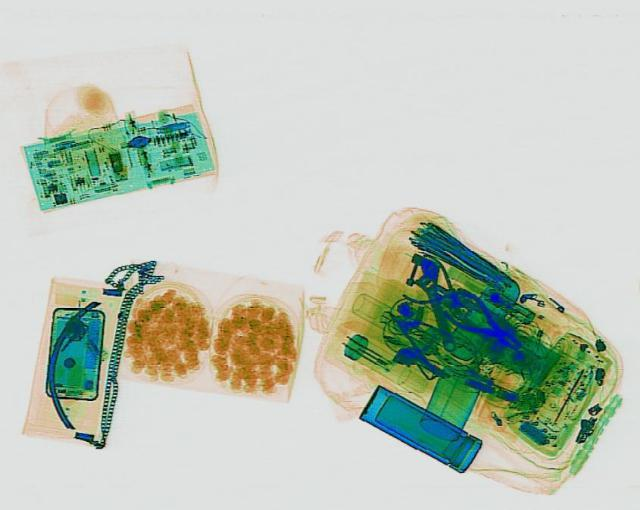Pliers: (432, 285, 534, 358), (387, 250, 487, 322)
Wrench: (404, 255, 466, 353)
